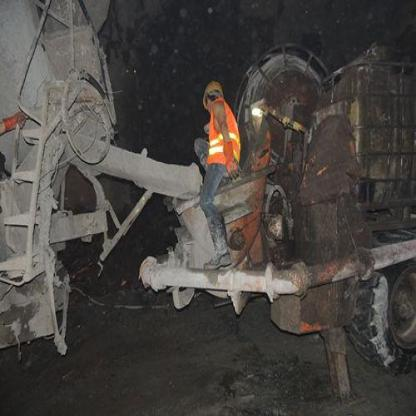helmet: (201, 76, 227, 120)
